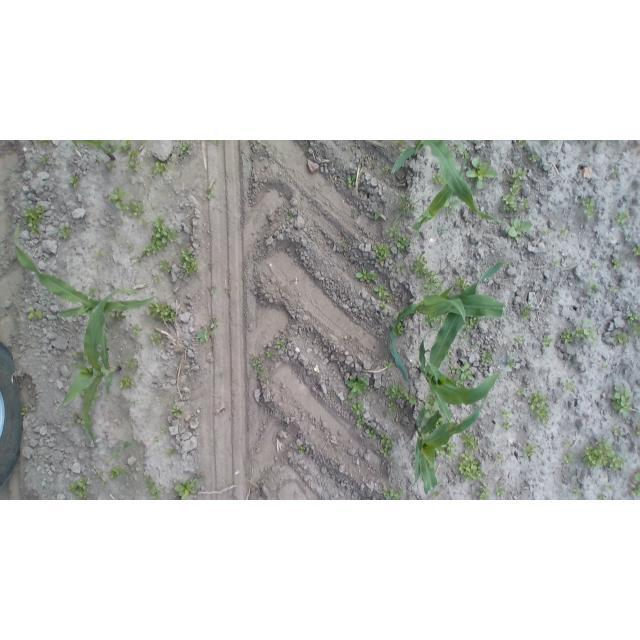Maize: (418, 261, 508, 424), (12, 222, 156, 319), (56, 289, 137, 457), (389, 284, 506, 384), (391, 141, 509, 226), (412, 391, 489, 496), (412, 157, 465, 240), (69, 140, 117, 161)
Weeds: (142, 217, 178, 256), (582, 439, 627, 470), (503, 168, 529, 213), (466, 157, 498, 190), (456, 451, 484, 482), (23, 204, 47, 234), (528, 392, 549, 425), (611, 386, 633, 417), (109, 439, 136, 463), (345, 375, 368, 403), (146, 302, 176, 322), (508, 219, 533, 242), (422, 271, 445, 296), (393, 196, 415, 222), (175, 478, 199, 500), (180, 248, 198, 276), (410, 252, 428, 279), (69, 476, 89, 500), (351, 401, 367, 429), (144, 474, 160, 500), (434, 441, 457, 459), (626, 312, 640, 338), (460, 432, 479, 451), (425, 394, 439, 419), (374, 284, 393, 302), (576, 327, 596, 344), (375, 244, 392, 264), (443, 194, 460, 214), (127, 148, 141, 172), (356, 269, 378, 284), (111, 187, 126, 209), (582, 198, 597, 219), (123, 202, 144, 217), (380, 434, 393, 458), (425, 313, 447, 327), (381, 488, 404, 501), (152, 161, 169, 178), (456, 362, 472, 380), (394, 235, 410, 253), (108, 467, 130, 480), (463, 317, 482, 332), (385, 385, 403, 400), (250, 358, 265, 375), (453, 141, 466, 159), (561, 329, 576, 344), (57, 225, 72, 240), (476, 485, 491, 500), (613, 331, 629, 345), (120, 376, 137, 389), (196, 330, 214, 342), (615, 212, 630, 226), (455, 276, 469, 291), (28, 306, 43, 320), (392, 321, 405, 337), (447, 376, 464, 388), (430, 174, 447, 186), (524, 443, 537, 458), (125, 359, 138, 374), (74, 351, 87, 366), (71, 412, 86, 425), (520, 304, 532, 320), (170, 406, 184, 419), (391, 262, 407, 273), (117, 141, 132, 152), (562, 380, 574, 393), (160, 260, 173, 272), (151, 331, 162, 345), (405, 390, 416, 404), (132, 324, 143, 337), (482, 352, 493, 364), (588, 282, 599, 294), (388, 225, 399, 237), (70, 175, 81, 187), (180, 142, 191, 154), (365, 429, 377, 440), (563, 454, 574, 465), (542, 337, 553, 348), (90, 392, 100, 404), (348, 175, 357, 188), (502, 421, 513, 431), (611, 259, 621, 270), (275, 340, 286, 350), (495, 485, 505, 496), (435, 418, 446, 428), (631, 484, 640, 496), (444, 349, 453, 360), (513, 336, 524, 345), (88, 287, 97, 298), (368, 212, 380, 220), (208, 187, 216, 199), (501, 409, 511, 418), (115, 312, 125, 321), (506, 359, 515, 368), (530, 154, 539, 163), (633, 247, 640, 258), (561, 226, 568, 237), (496, 454, 505, 462), (40, 156, 48, 165), (388, 402, 396, 411), (297, 445, 306, 453), (459, 334, 467, 343), (517, 141, 527, 148), (438, 227, 446, 235), (21, 407, 29, 415), (517, 389, 526, 396), (573, 490, 582, 497), (284, 212, 293, 219), (81, 387, 88, 396), (168, 449, 177, 456), (611, 429, 621, 435), (211, 318, 217, 328), (263, 375, 273, 381), (448, 366, 456, 373), (380, 301, 387, 309), (96, 249, 103, 257), (108, 315, 115, 323), (139, 218, 147, 225), (267, 350, 274, 358), (598, 494, 607, 500), (634, 473, 640, 482), (384, 362, 393, 368), (352, 208, 357, 218), (40, 141, 50, 146), (161, 427, 168, 434), (583, 318, 591, 324), (398, 145, 406, 151), (106, 163, 114, 169), (153, 275, 159, 283), (611, 288, 620, 293), (395, 140, 406, 144), (565, 441, 572, 447), (591, 263, 598, 269), (433, 491, 440, 497), (552, 260, 560, 265), (89, 418, 94, 426), (97, 471, 103, 477), (368, 385, 374, 391), (471, 343, 478, 348), (383, 166, 390, 171), (152, 205, 157, 212), (212, 287, 217, 294), (101, 140, 109, 144), (541, 230, 547, 235), (30, 166, 36, 171), (119, 359, 124, 365), (132, 399, 138, 404), (637, 426, 640, 435), (160, 488, 165, 493), (411, 364, 417, 368), (212, 140, 218, 144), (153, 437, 159, 441), (606, 485, 611, 489), (342, 243, 346, 248), (97, 158, 102, 162), (130, 245, 134, 250), (101, 482, 105, 487), (385, 412, 389, 417), (602, 366, 606, 370), (550, 141, 555, 144)
